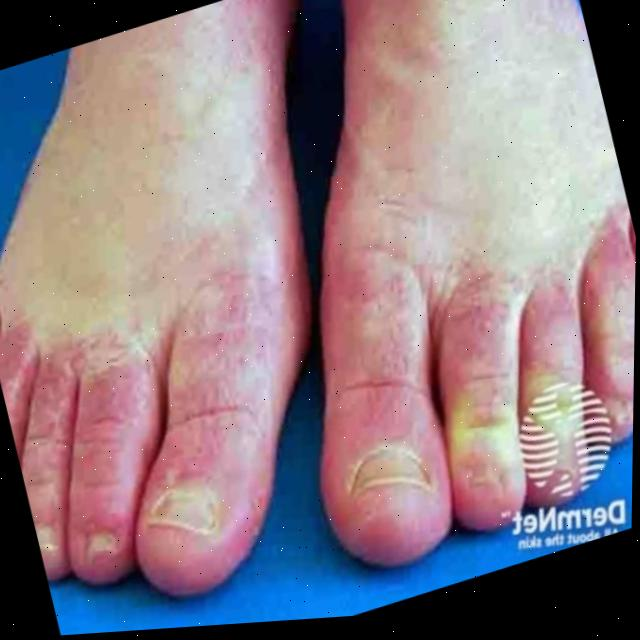Eczema: (302, 133, 637, 499), (0, 221, 318, 586)
